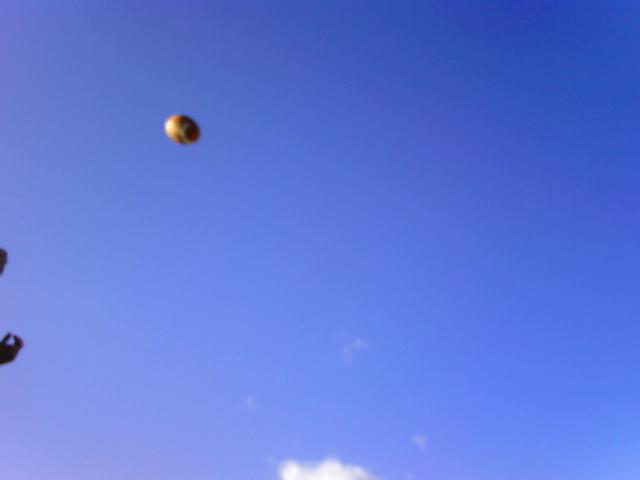football: (162, 111, 207, 151)
